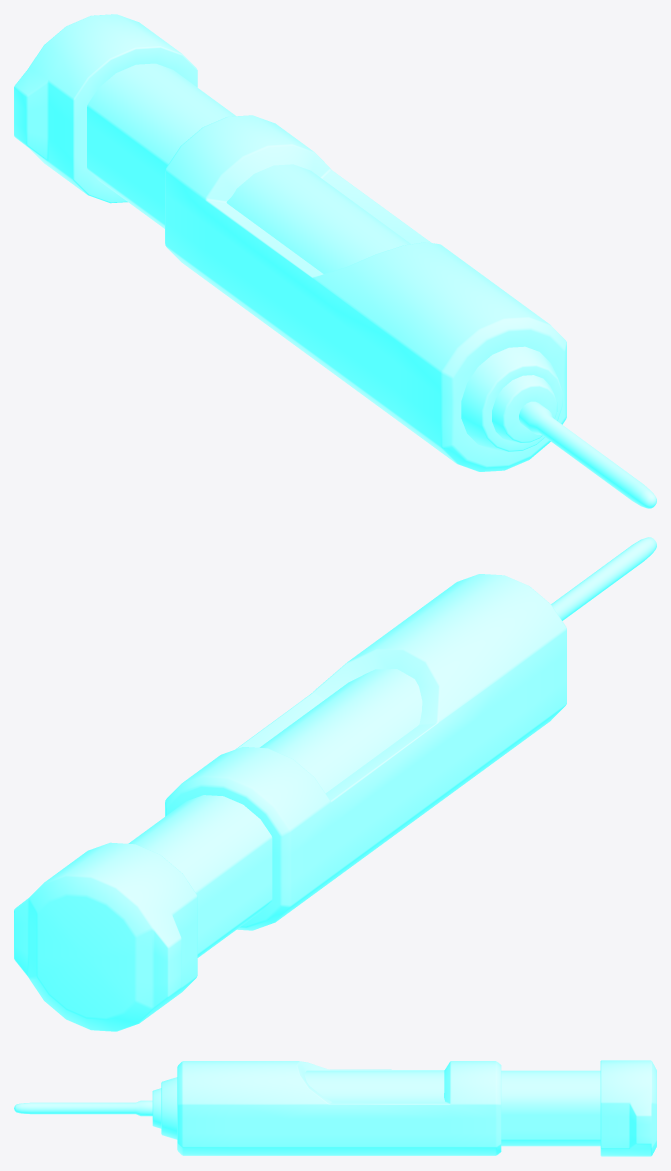
Rendered from scifimedinjector01-2.glb.
The picture shows the model from 3 angles, top to bottom: view 1: azimuth 30°, elevation 25°; view 2: azimuth 150°, elevation 25°; view 3: azimuth 270°, elevation 25°; orthographic projection. The views are drawn at different scales.
Parts seen in each view (by area): view 1: SciFiMedInjector01_2, Pump; view 2: SciFiMedInjector01_2, Pump; view 3: SciFiMedInjector01_2, Pump.
Boxes of the visible parts, <box> form: SciFiMedInjector01_2: <box>165,115,656,508</box>; Pump: <box>14,14,410,273</box>; SciFiMedInjector01_2: <box>165,537,656,930</box>; Pump: <box>14,669,422,1031</box>; SciFiMedInjector01_2: <box>14,1061,501,1155</box>; Pump: <box>304,1060,656,1156</box>.
Size of the model in its own units: 0.0444 by 0.0422 by 0.2808.
